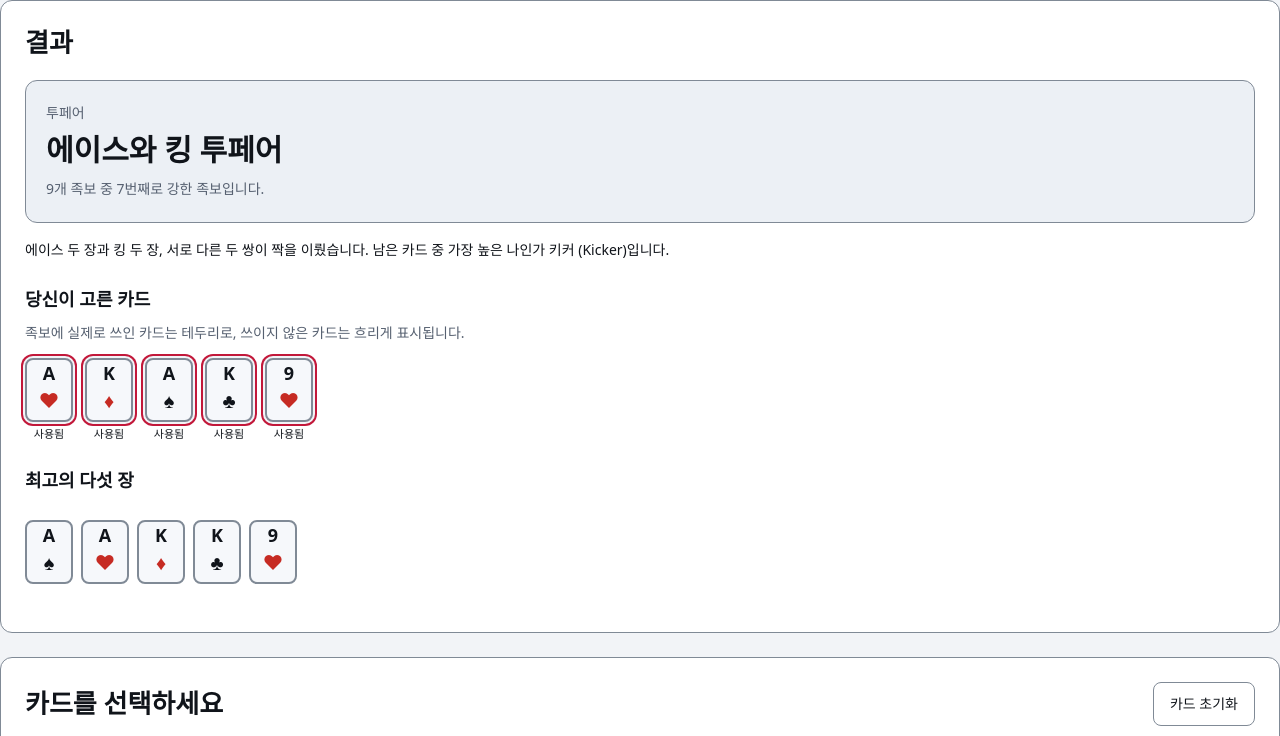
Test case: HandChecker › reset clears both pickers back to an incomplete, empty state
What coordinates should you click on to do the following:
click the button "카드 초기화"
I would click on:
 (1204, 704)
Its box is [1153, 682, 1255, 726].
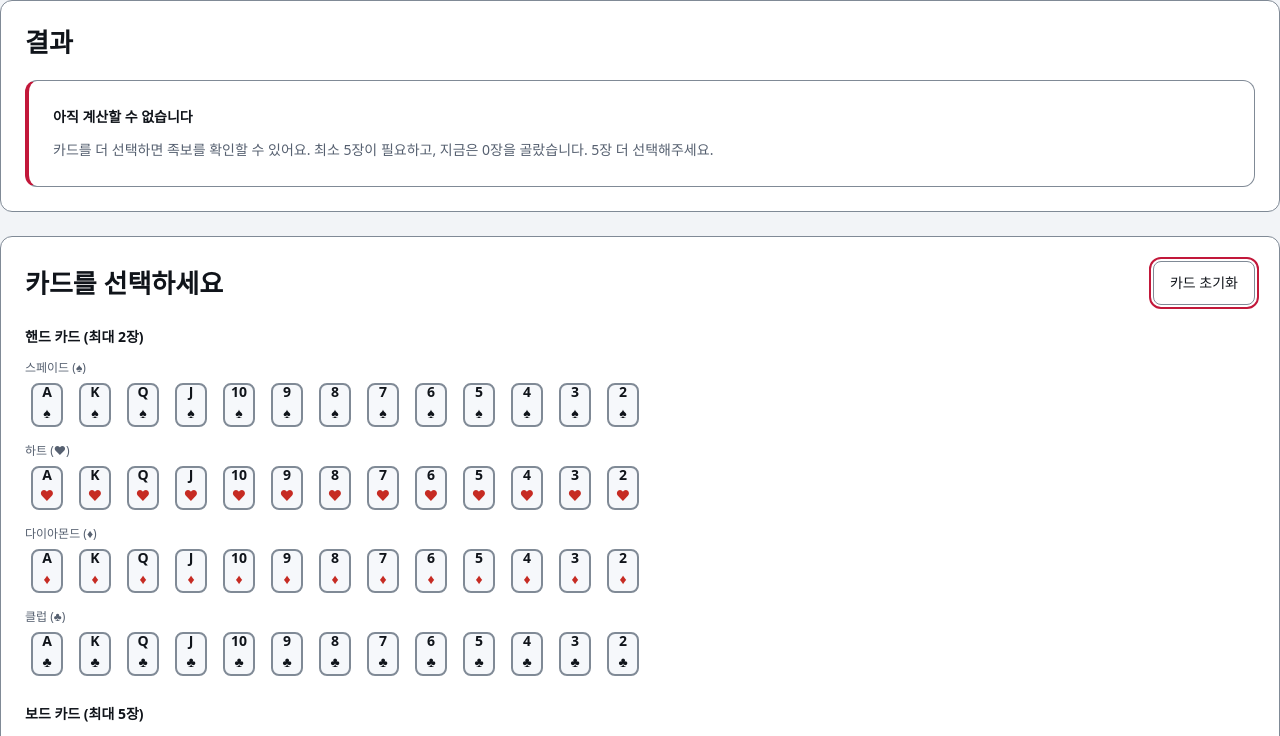
Now the text "카드를 더 선택하면 족보를 확인할 수 있어요." is shown, box [53, 140, 478, 159]
Now the text "지금은 0장을 골랐습니다. 5장 더 선택해주세요." is shown, box [53, 140, 713, 159]
Now the button named "스페이드 A 선택" is enabled, box [25, 381, 69, 429]
